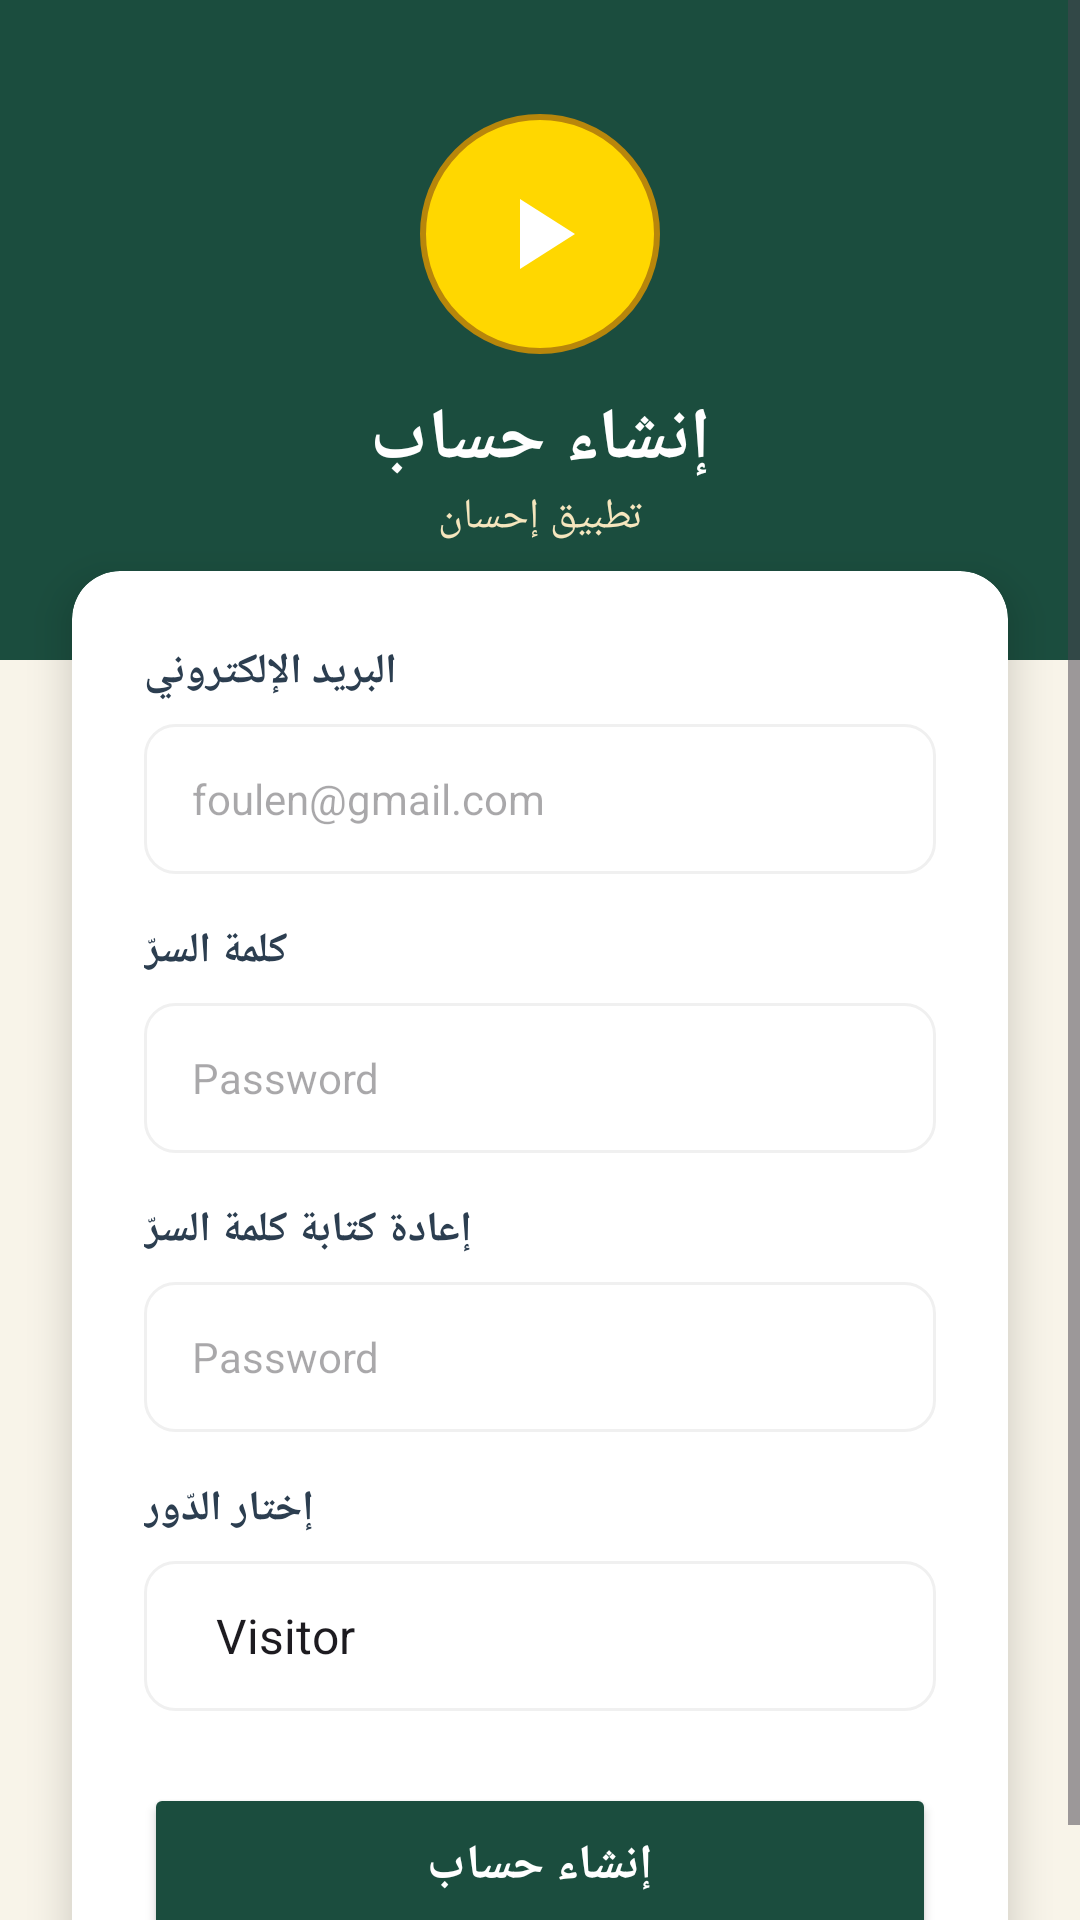

Icons on this 1080w x 1920h Android screen, each with its box as rect(x1, y1, x2, y2):
play: rect(520, 199, 575, 269)
